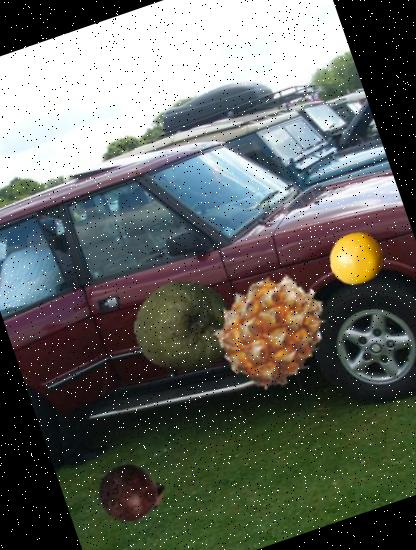Grapefruit: (322, 223, 392, 293)
Limes: (121, 265, 249, 393)
Mangostan: (89, 452, 173, 536)
Pineapple: (200, 258, 344, 402)
